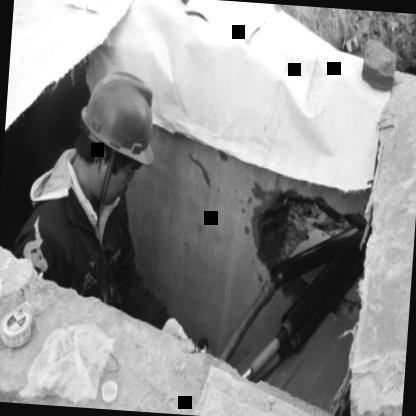helmet: (66, 51, 167, 214)
